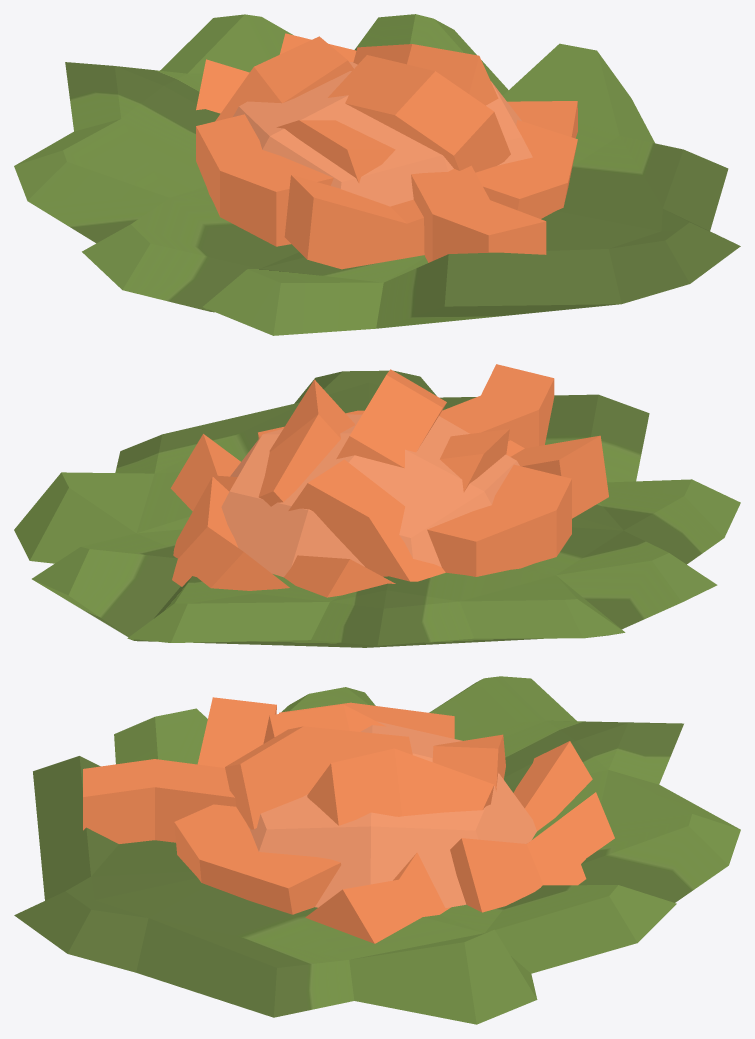
Rendered from samurai_SM_Prop_Food_Seafood_01.gltf.
3 renders of one model, top to bottom at view 1: azimuth 30°, elevation 25°; view 2: azimuth 150°, elevation 25°; view 3: azimuth 270°, elevation 25°, orthographic.
Parts seen in each view (by area): view 1: SM_Prop_Food_Seafood_01; view 2: SM_Prop_Food_Seafood_01; view 3: SM_Prop_Food_Seafood_01.
Part boxes in pixels (x1,y1,x2,y2): SM_Prop_Food_Seafood_01: (14,14,740,335); SM_Prop_Food_Seafood_01: (14,364,740,647); SM_Prop_Food_Seafood_01: (14,676,740,1024).
Size of the model in its own units: 0.2579 by 0.0648 by 0.267.
1 material, 1 textured.
